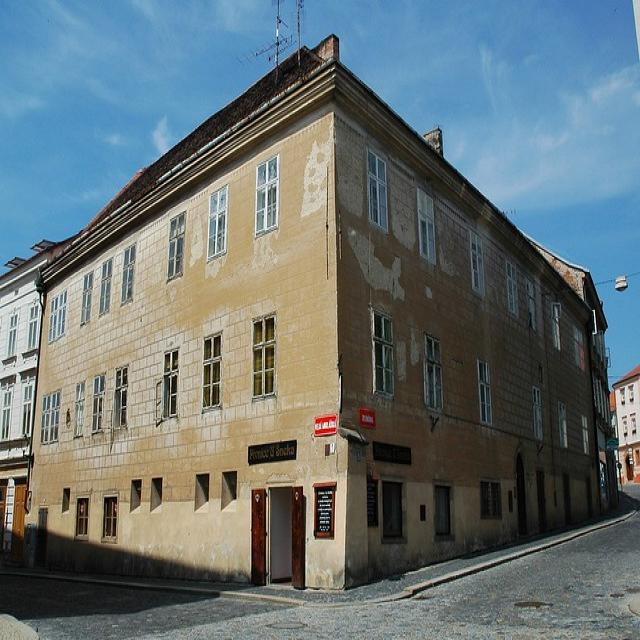building: (21, 29, 628, 596)
